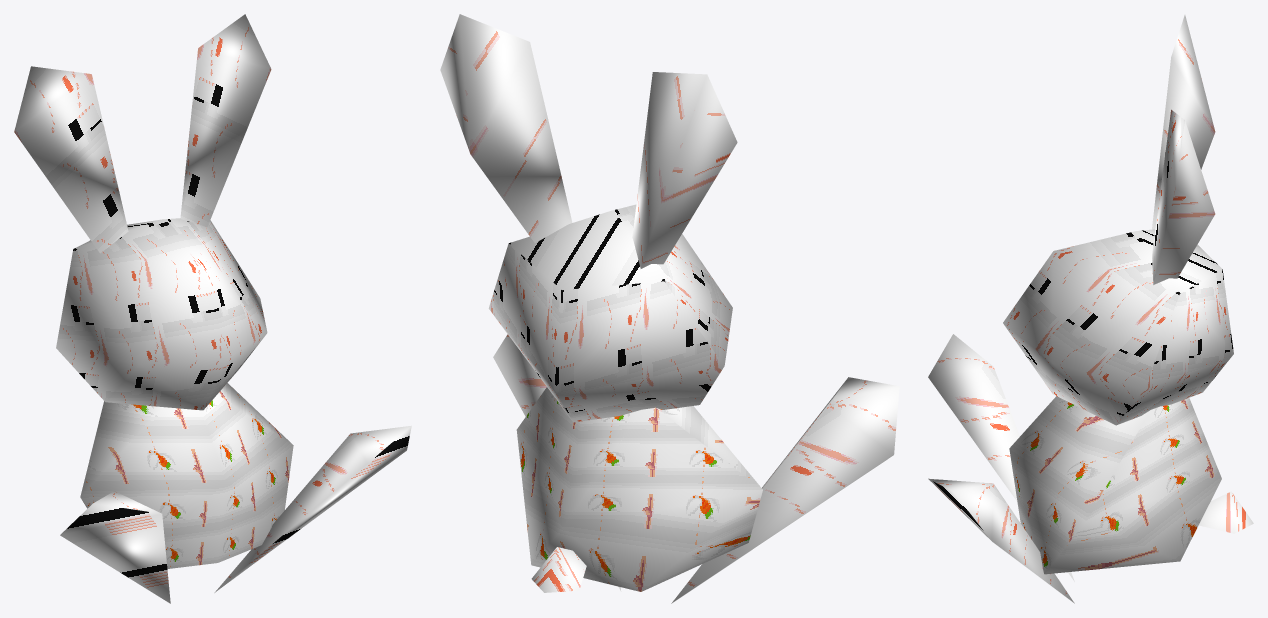
File: 3848kg3_ser29.gltf
3 views of the same model, side by side, from view 1: azimuth 30°, elevation 25°; view 2: azimuth 150°, elevation 25°; view 3: azimuth 270°, elevation 25° (orthographic). The views are drawn at different scales.
Visible parts, largest first — view 1: 3848kg3_ser29; view 2: 3848kg3_ser29; view 3: 3848kg3_ser29.
Boxes of the visible parts, x1,y1,x2,y2 form: 3848kg3_ser29: (14,14,411,603); 3848kg3_ser29: (440,14,899,603); 3848kg3_ser29: (928,15,1253,603).
Size of the model in its own units: 0.731 by 1.04 by 0.5862.
2 materials, 2 textured.
